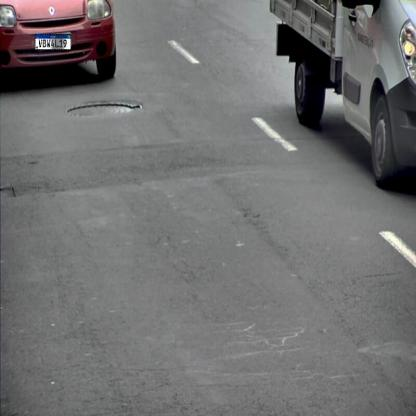PlacaM: (35, 34, 71, 50)
